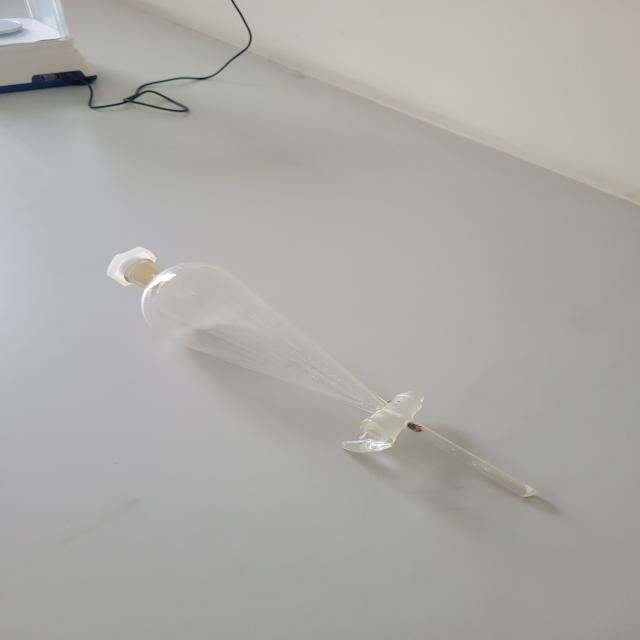Separating_Funnel: (45, 223, 578, 551)
